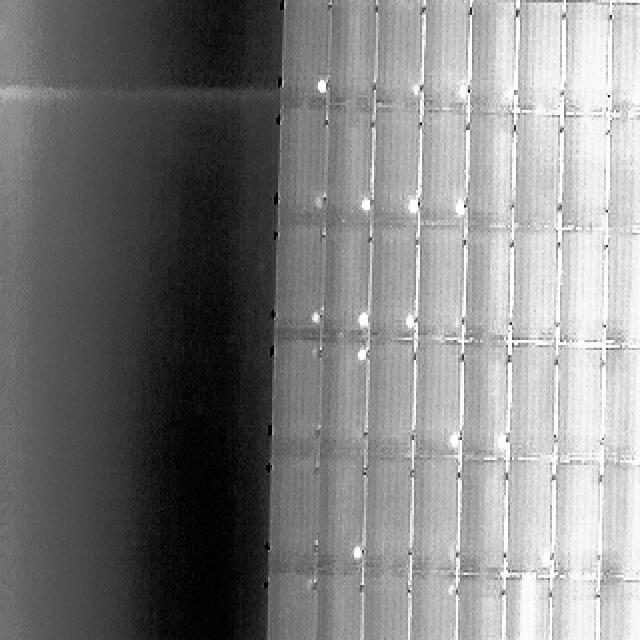Hotspots: (514, 576, 544, 634), (499, 76, 518, 110), (309, 186, 326, 217), (447, 80, 467, 106), (404, 79, 424, 105), (532, 544, 556, 565), (442, 578, 458, 604), (350, 307, 370, 326), (444, 546, 460, 568), (448, 198, 464, 219), (402, 318, 418, 338), (354, 198, 371, 216), (404, 198, 420, 216), (352, 347, 368, 364), (444, 431, 460, 448), (305, 306, 320, 324), (347, 548, 363, 564), (494, 432, 508, 450), (321, 78, 334, 96)
PV-modules: (314, 453, 367, 574), (411, 343, 462, 462), (460, 343, 511, 462), (366, 343, 417, 460), (269, 450, 317, 574), (324, 111, 374, 230), (368, 111, 418, 229), (370, 226, 420, 344), (458, 463, 509, 578), (462, 229, 513, 344), (550, 464, 600, 581), (507, 463, 557, 580), (269, 341, 319, 458), (360, 461, 410, 578), (321, 225, 372, 339), (515, 0, 565, 116), (417, 110, 467, 226), (513, 116, 563, 232), (512, 229, 562, 345), (556, 230, 606, 346), (509, 346, 559, 462), (413, 227, 464, 340), (465, 112, 515, 227), (276, 107, 326, 222), (409, 462, 459, 576), (553, 350, 603, 464), (560, 4, 609, 119), (557, 118, 606, 233), (324, 0, 376, 108), (468, 0, 518, 112), (318, 346, 368, 458), (374, 0, 424, 110), (278, 0, 328, 110), (274, 223, 322, 336), (420, 0, 468, 112), (598, 462, 640, 580), (602, 348, 640, 462), (604, 232, 640, 348), (604, 115, 640, 230), (608, 5, 640, 117), (408, 572, 458, 640), (266, 575, 315, 640), (360, 577, 410, 640), (457, 577, 506, 640), (314, 577, 362, 640), (549, 579, 598, 640), (596, 580, 640, 640), (516, 577, 552, 640)
